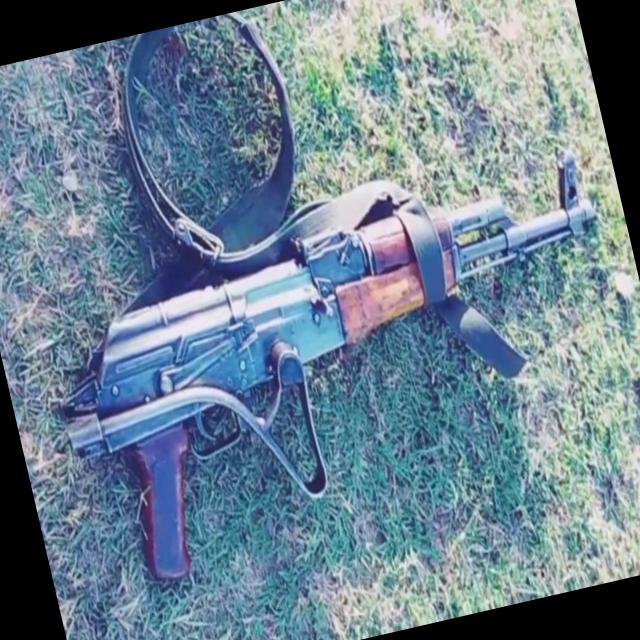long weapon: (30, 125, 637, 562)
